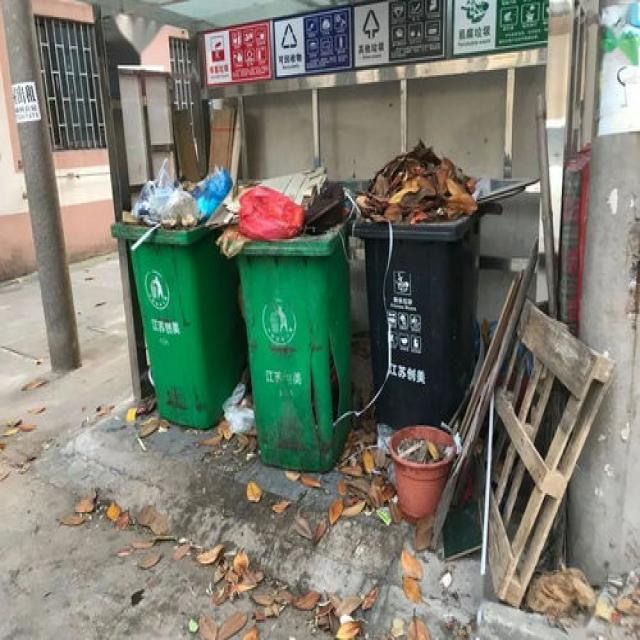overflow: (204, 164, 354, 473), (352, 134, 480, 426), (112, 165, 245, 428)
